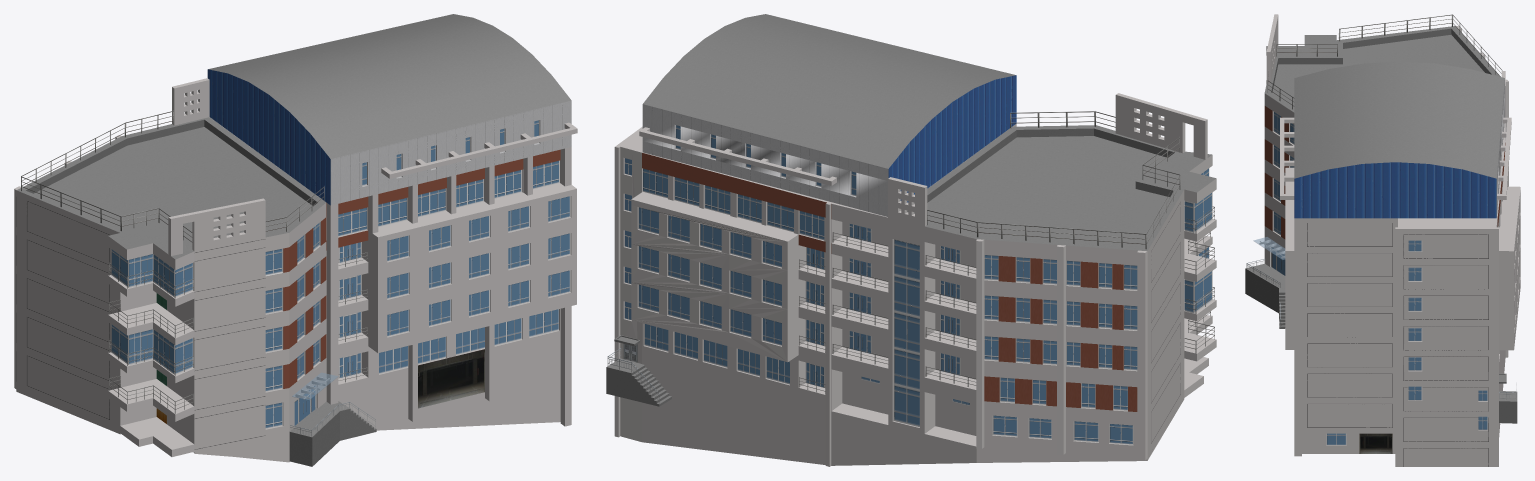
File: building.gltf
3 renders of one model, left to right at view 1: azimuth 30°, elevation 25°; view 2: azimuth 150°, elevation 25°; view 3: azimuth 270°, elevation 25°, orthographic. The views are drawn at different scales.
Parts seen in each view (by area): view 1: Lo-办公楼_01; view 2: Lo-办公楼_01; view 3: Lo-办公楼_01.
Boxes of the visible parts, box(x1,y1,x2,y2) form: Lo-办公楼_01: box(14, 14, 577, 466); Lo-办公楼_01: box(606, 14, 1216, 466); Lo-办公楼_01: box(1245, 14, 1520, 466).
Size of the model in its own units: 28.81 by 19.45 by 16.52.
21 materials, 21 textured.
